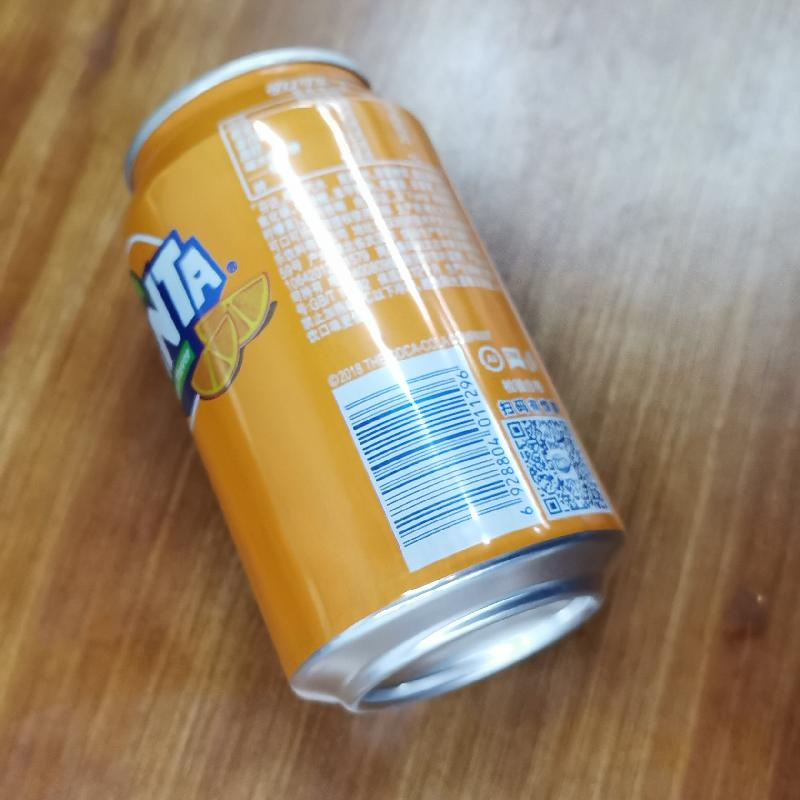cans: (115, 49, 624, 714)
